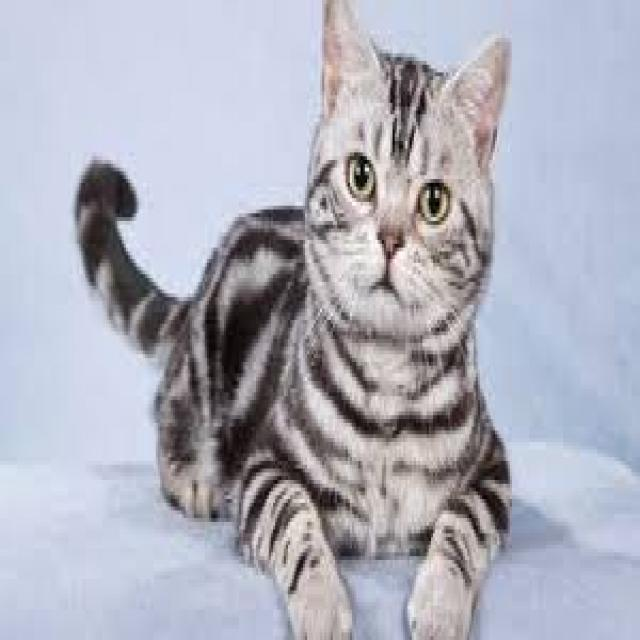cat-face: (275, 0, 554, 386)
